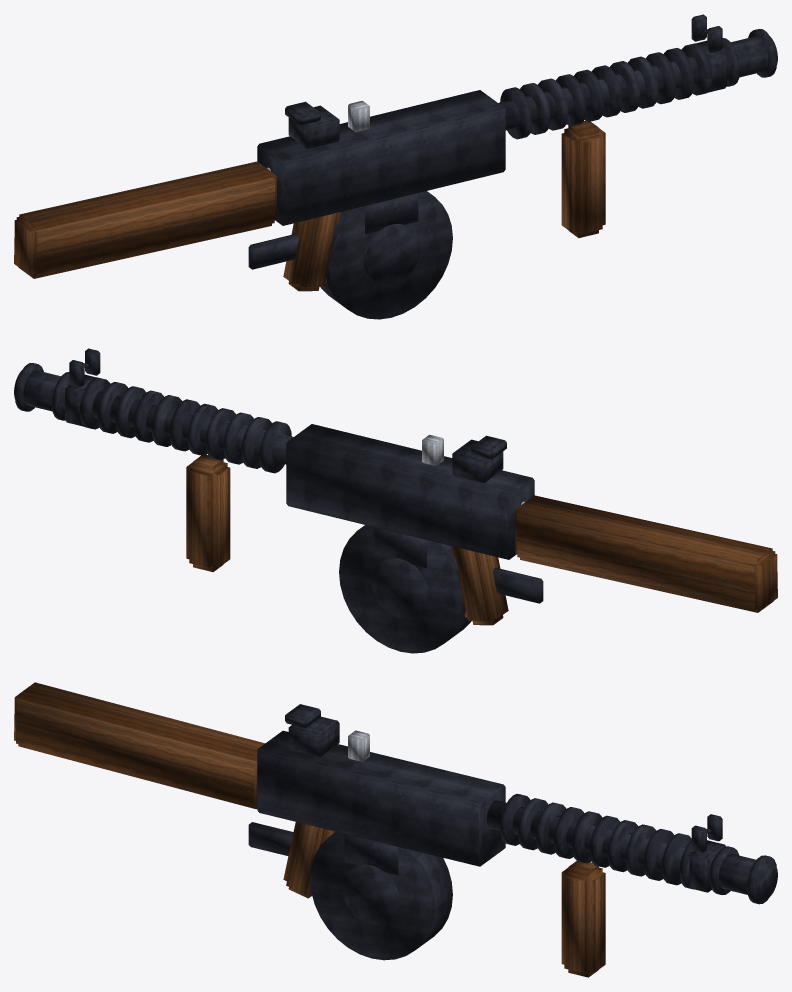
3 views of the same model, one above another, from view 1: azimuth 30°, elevation 25°; view 2: azimuth 150°, elevation 25°; view 3: azimuth 330°, elevation 25° (orthographic).
Visible parts, largest first — view 1: Outer_Shell, Inner_Part_10, Inner_Part_1, Inner_Part_5, Inner_Part_9, Inner_Part_11, Inner_Part_6, Inner_Part_8, Inner_Part_7, Inner_Part_4; view 2: Outer_Shell, Inner_Part_10, Inner_Part_1, Inner_Part_5, Inner_Part_9, Inner_Part_11, Inner_Part_6, Inner_Part_8, Inner_Part_7, Inner_Part_4; view 3: Outer_Shell, Inner_Part_10, Inner_Part_1, Inner_Part_5, Inner_Part_9, Inner_Part_6, Inner_Part_8, Inner_Part_11, Inner_Part_7, Inner_Part_4.
Part boxes in pixels (left/top/right/bottom): Outer_Shell: left=248, top=90, right=505, bottom=269; Inner_Part_10: left=14, top=161, right=276, bottom=278; Inner_Part_1: left=320, top=191, right=452, bottom=319; Inner_Part_5: left=498, top=43, right=712, bottom=139; Inner_Part_9: left=561, top=120, right=605, bottom=237; Inner_Part_11: left=283, top=212, right=340, bottom=291; Inner_Part_6: left=721, top=29, right=777, bottom=86; Inner_Part_8: left=285, top=101, right=339, bottom=148; Inner_Part_7: left=691, top=14, right=726, bottom=92; Inner_Part_4: left=348, top=100, right=369, bottom=131; Outer_Shell: left=286, top=424, right=543, bottom=603; Inner_Part_10: left=515, top=495, right=777, bottom=612; Inner_Part_1: left=339, top=525, right=471, bottom=653; Inner_Part_5: left=79, top=377, right=293, bottom=473; Inner_Part_9: left=186, top=454, right=230, bottom=571; Inner_Part_11: left=451, top=546, right=508, bottom=625; Inner_Part_6: left=14, top=363, right=70, bottom=420; Inner_Part_8: left=452, top=435, right=506, bottom=482; Inner_Part_7: left=65, top=348, right=100, bottom=426; Inner_Part_4: left=422, top=434, right=443, bottom=465; Outer_Shell: left=248, top=730, right=505, bottom=874; Inner_Part_10: left=14, top=682, right=264, bottom=809; Inner_Part_1: left=310, top=831, right=452, bottom=960; Inner_Part_5: left=486, top=794, right=707, bottom=889; Inner_Part_9: left=561, top=861, right=605, bottom=977; Inner_Part_6: left=709, top=846, right=777, bottom=904; Inner_Part_8: left=285, top=704, right=339, bottom=756; Inner_Part_11: left=283, top=822, right=335, bottom=898; Inner_Part_7: left=688, top=814, right=726, bottom=892; Inner_Part_4: left=348, top=730, right=369, bottom=761.
Size of the model in its own units: 0.6653 by 0.188 by 0.04.
3 materials, 3 textured.
